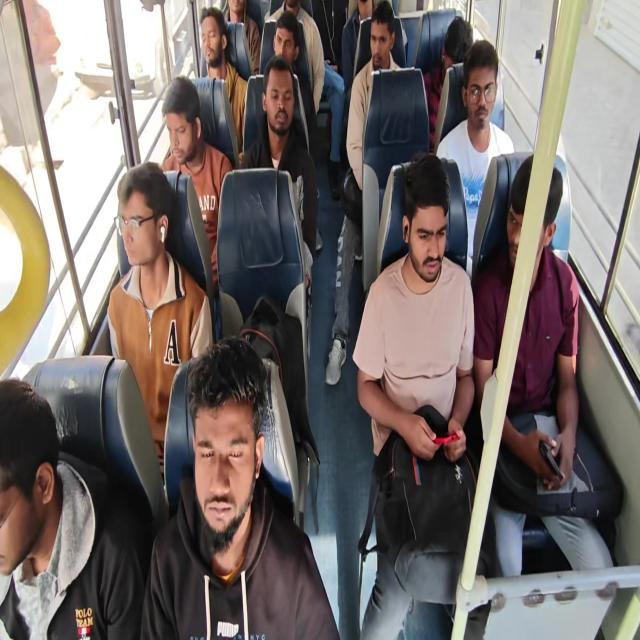person: (180, 338, 270, 605), (0, 340, 70, 560), (510, 156, 575, 320), (408, 180, 474, 338), (116, 159, 177, 284), (462, 44, 514, 170), (162, 69, 208, 183), (193, 14, 241, 99), (442, 15, 482, 86), (264, 69, 295, 158), (360, 5, 392, 65), (314, 0, 343, 65), (226, 0, 257, 31), (276, 26, 292, 66), (356, 0, 379, 27), (278, 0, 308, 20)
